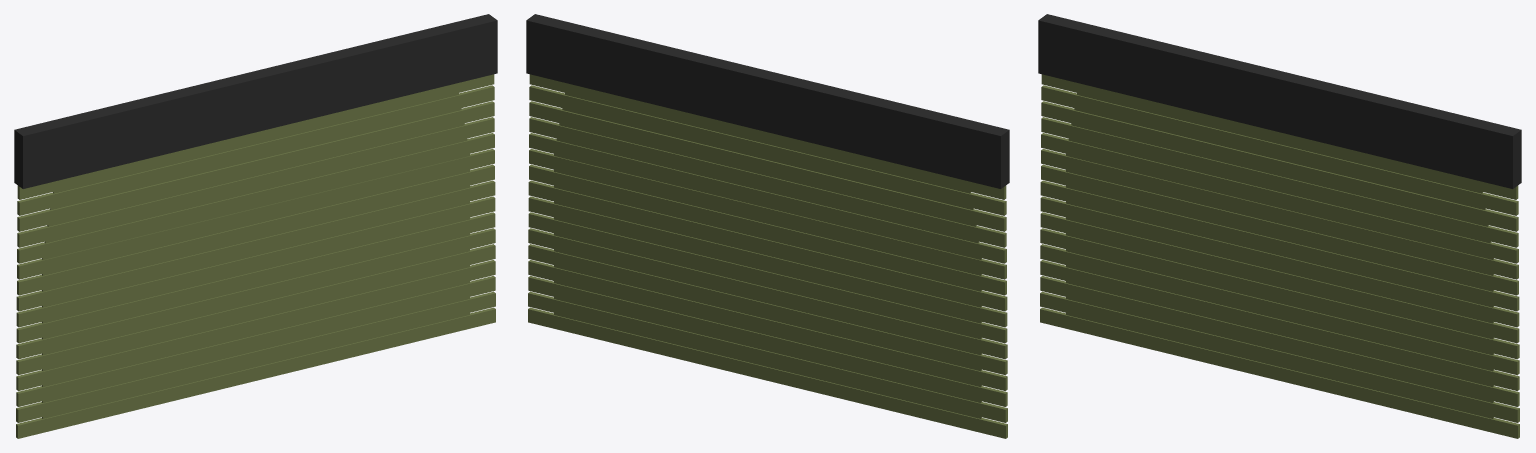
File: puertaGaraje.FBX
The picture shows the model from 3 angles, left to right: view 1: azimuth 30°, elevation 25°; view 2: azimuth 150°, elevation 25°; view 3: azimuth 330°, elevation 25°; orthographic projection.
Parts seen in each view (by area): view 1: Cube; view 2: Cube; view 3: Cube.
Boxes of the visible parts, box(x1,y1,x2,y2) form: Cube: box(14, 14, 497, 438); Cube: box(526, 14, 1009, 438); Cube: box(1038, 14, 1521, 438).
Size of the model in its own units: 310 by 189 by 9.84.
